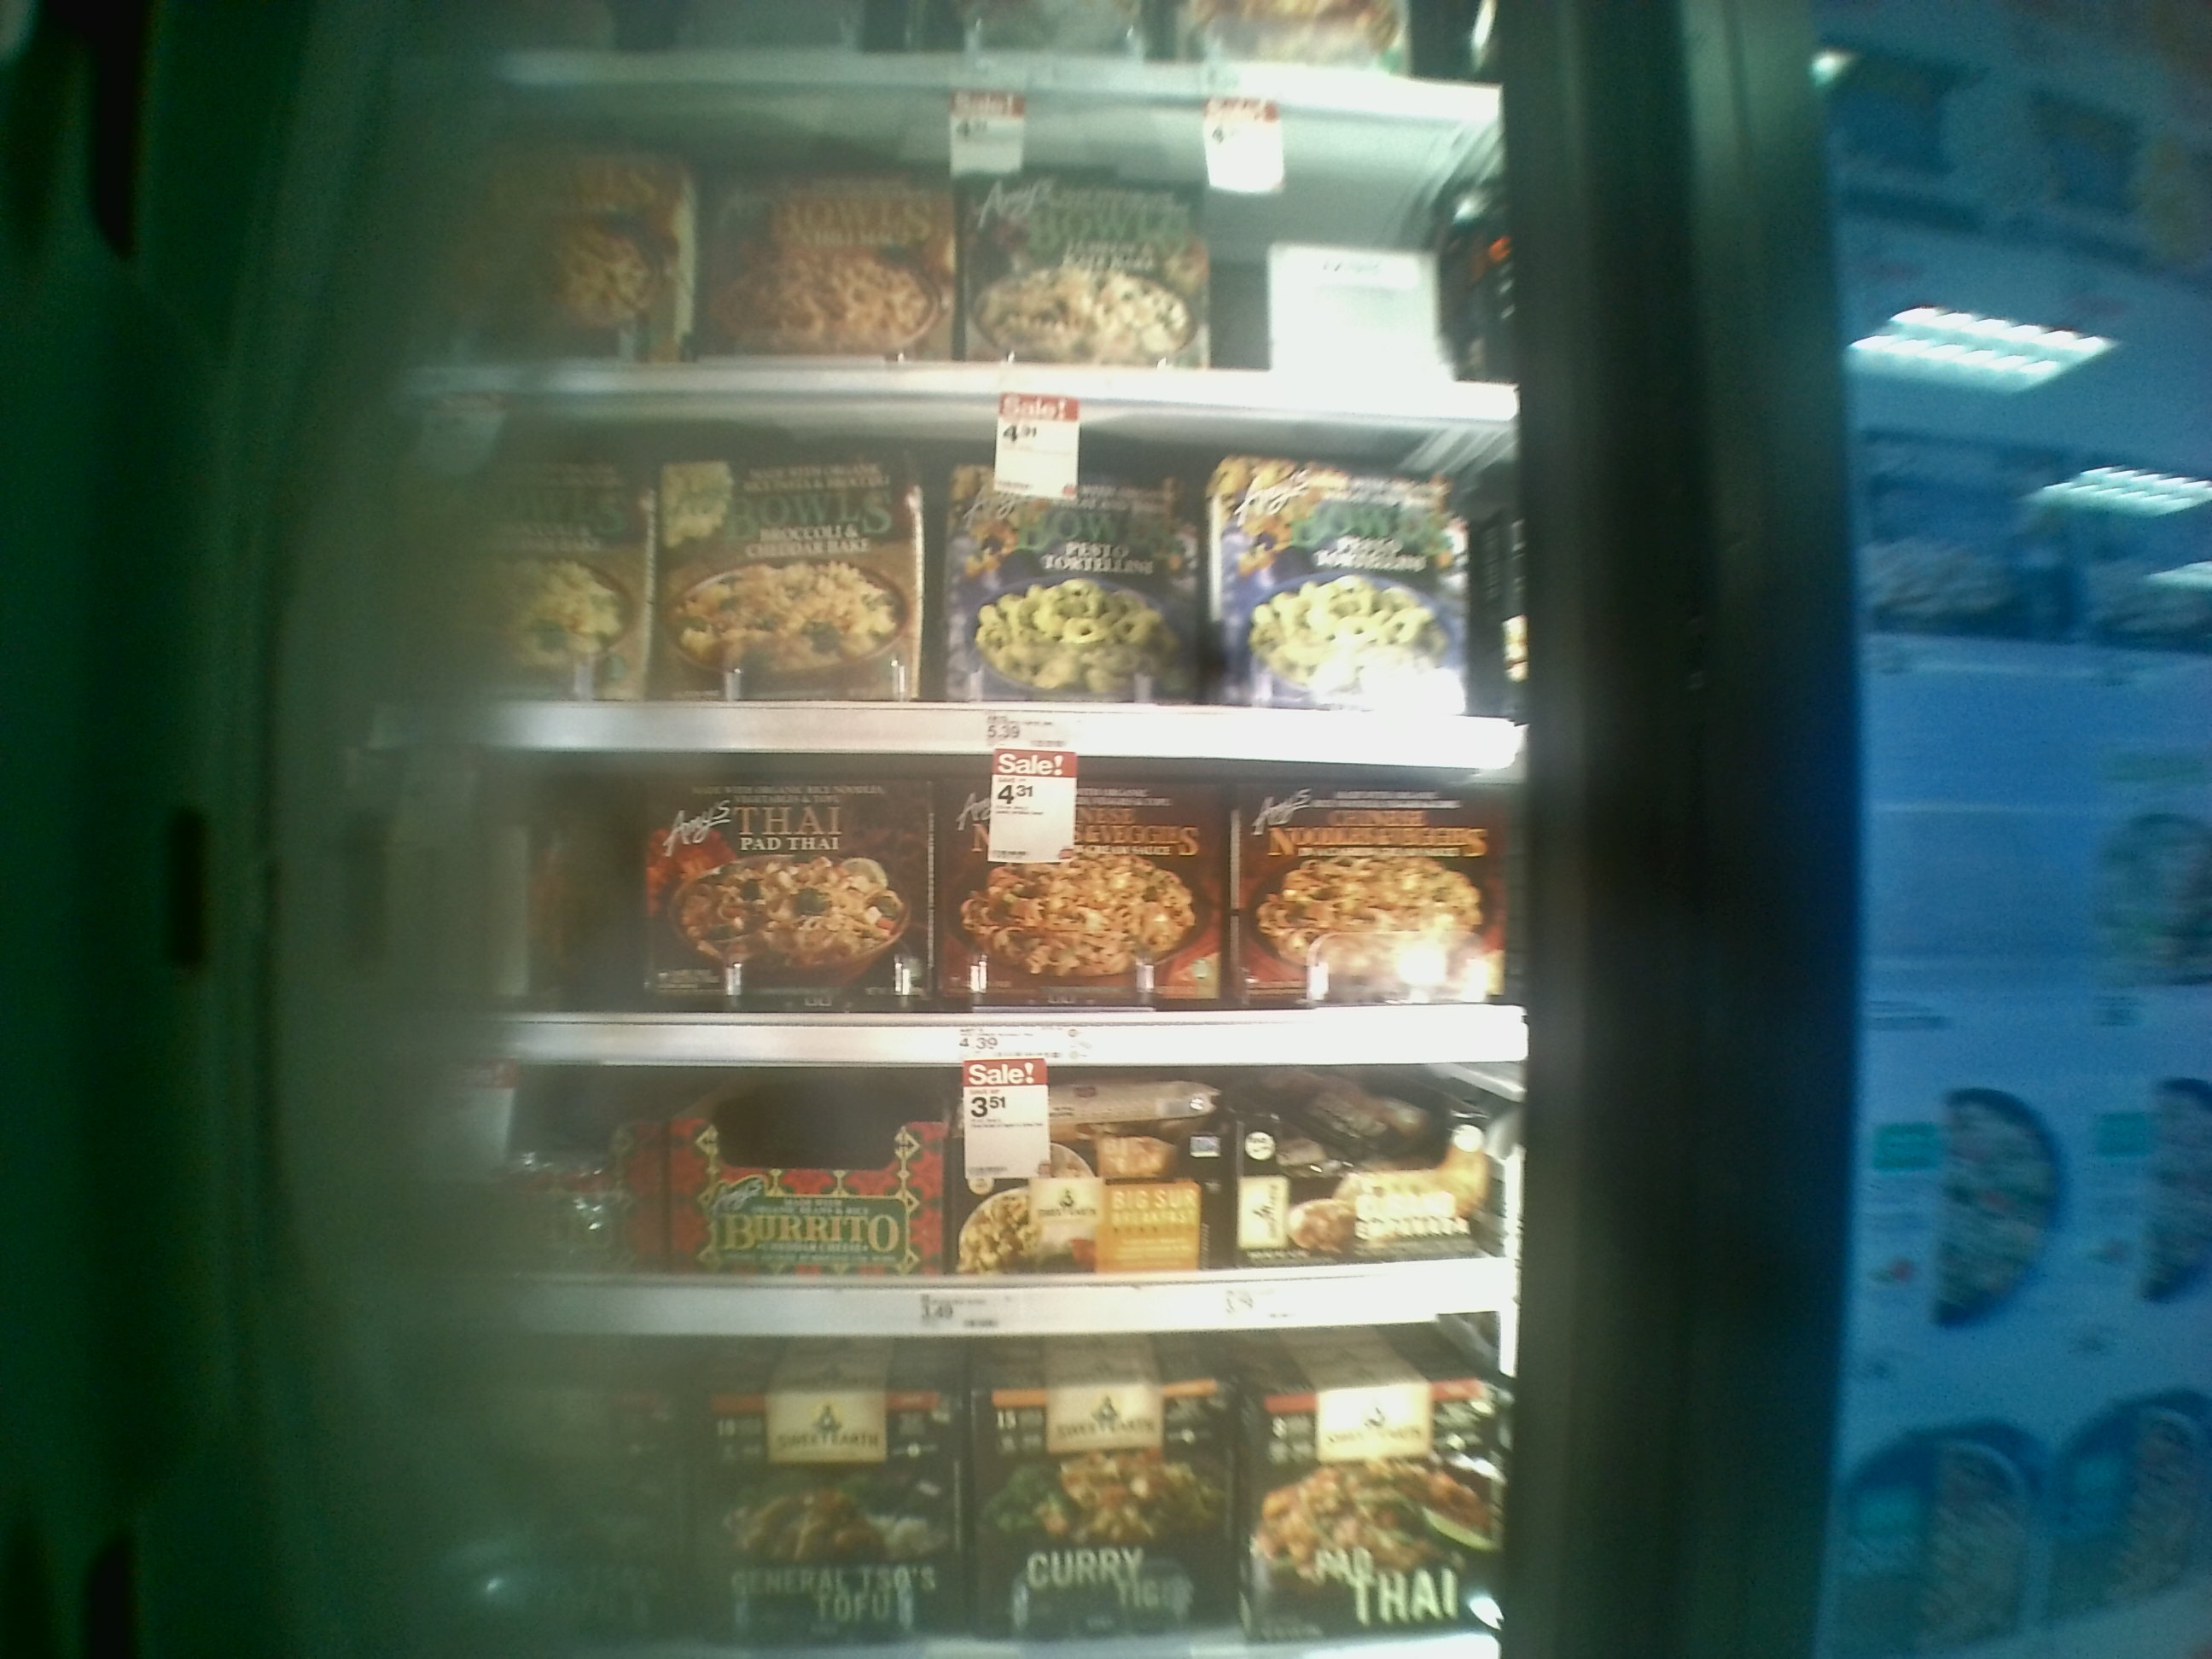frozen-food-shelf: (388, 91, 1531, 436), (376, 441, 1545, 767), (371, 772, 1550, 1070), (371, 1075, 1550, 1342)
